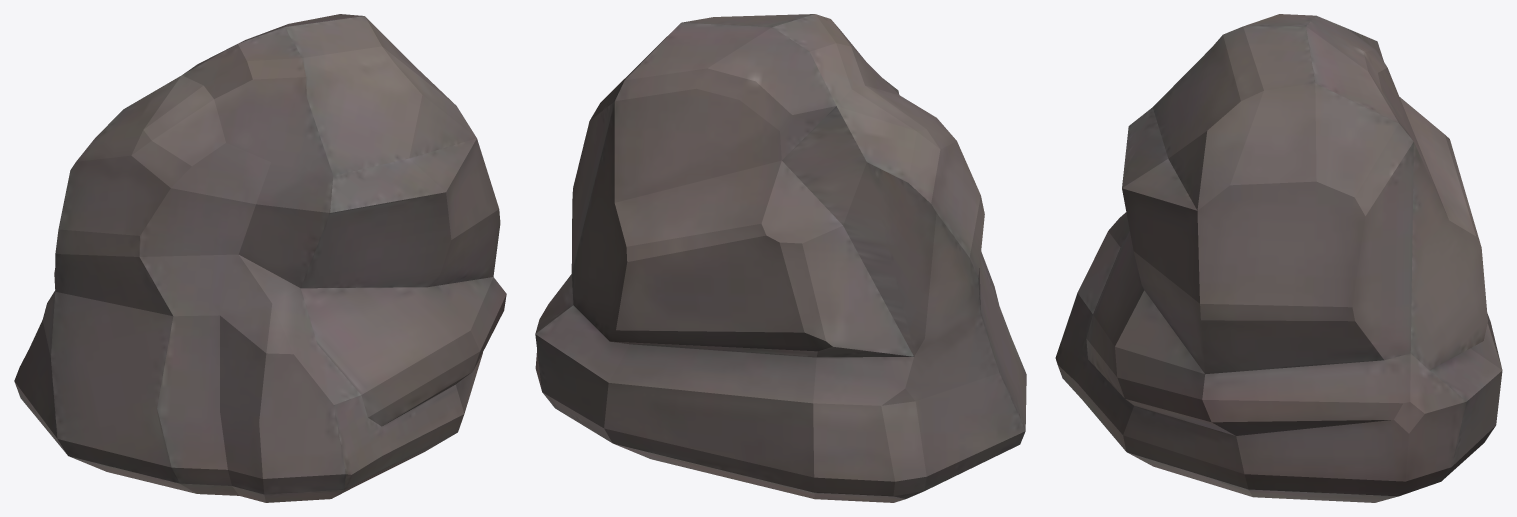
3 renders of one model, left to right at view 1: azimuth 30°, elevation 25°; view 2: azimuth 150°, elevation 25°; view 3: azimuth 270°, elevation 25°, orthographic. The views are drawn at different scales.
Visible parts, largest first — view 1: body0_model0_lod0_mesh0; view 2: body0_model0_lod0_mesh0; view 3: body0_model0_lod0_mesh0.
Part boxes in pixels (x1,y1,x2,y2): body0_model0_lod0_mesh0: (14, 14, 506, 502); body0_model0_lod0_mesh0: (535, 14, 1026, 502); body0_model0_lod0_mesh0: (1055, 14, 1502, 502).
Size of the model in its own units: 166 by 146 by 146.
Materials: 1 (1 with a texture image).
